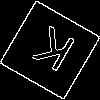K: (25, 25, 78, 82)
